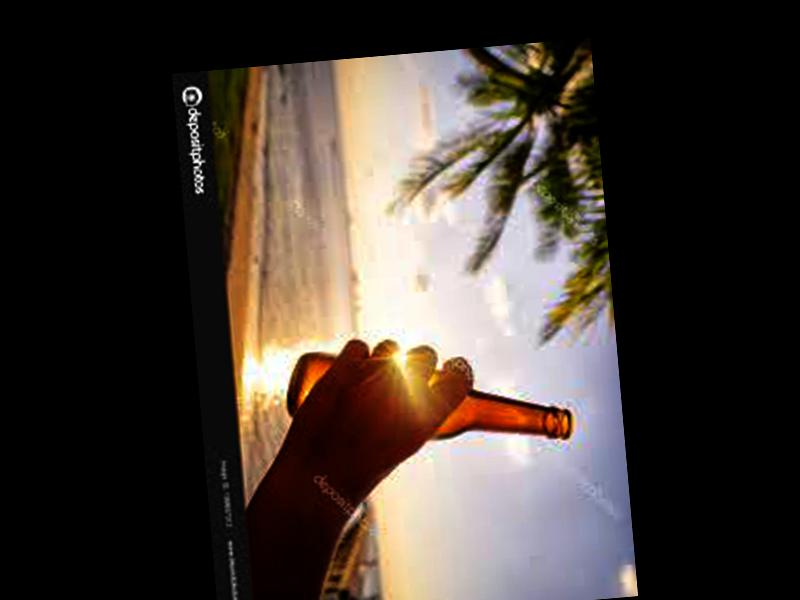Beer: (281, 333, 574, 465)
